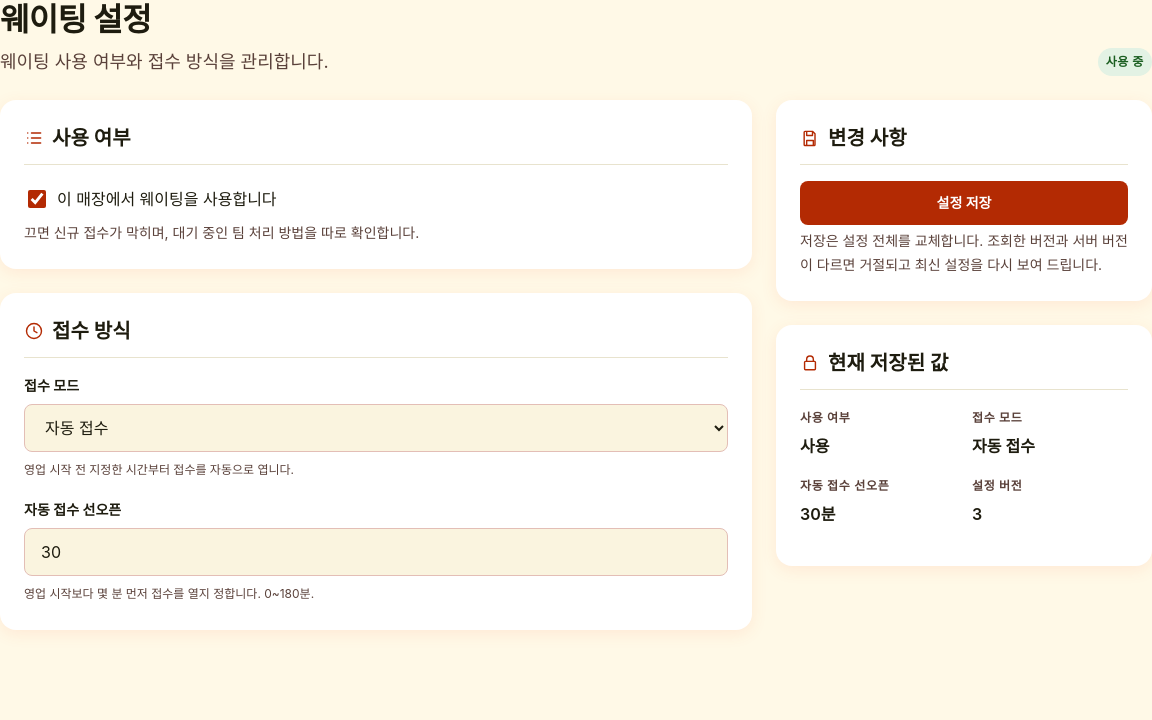
웨이팅 설정 화면 › 202 종결 작업 응답은 진행 상태로 안내한다
Click the checkbox labelled "이 매장에서 웨이팅을 사용합니다": {"x": 37, "y": 199} [28,190,46,208]
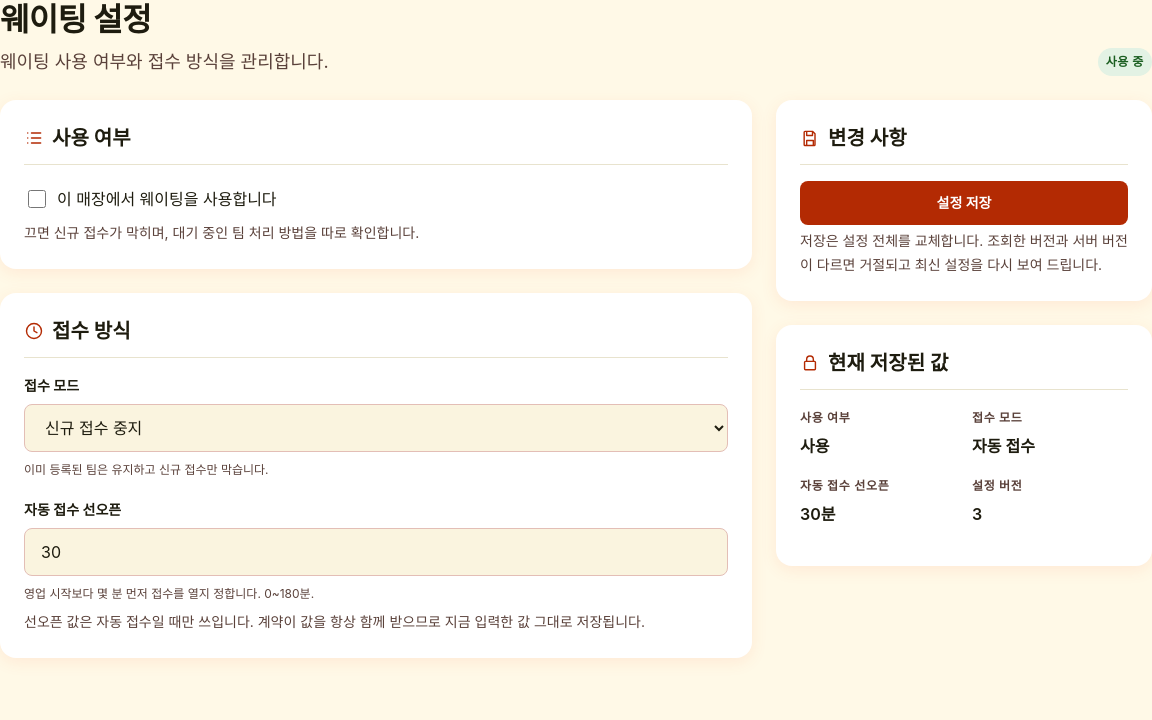
Click the button "설정 저장": {"x": 964, "y": 203} [800,181,1128,225]
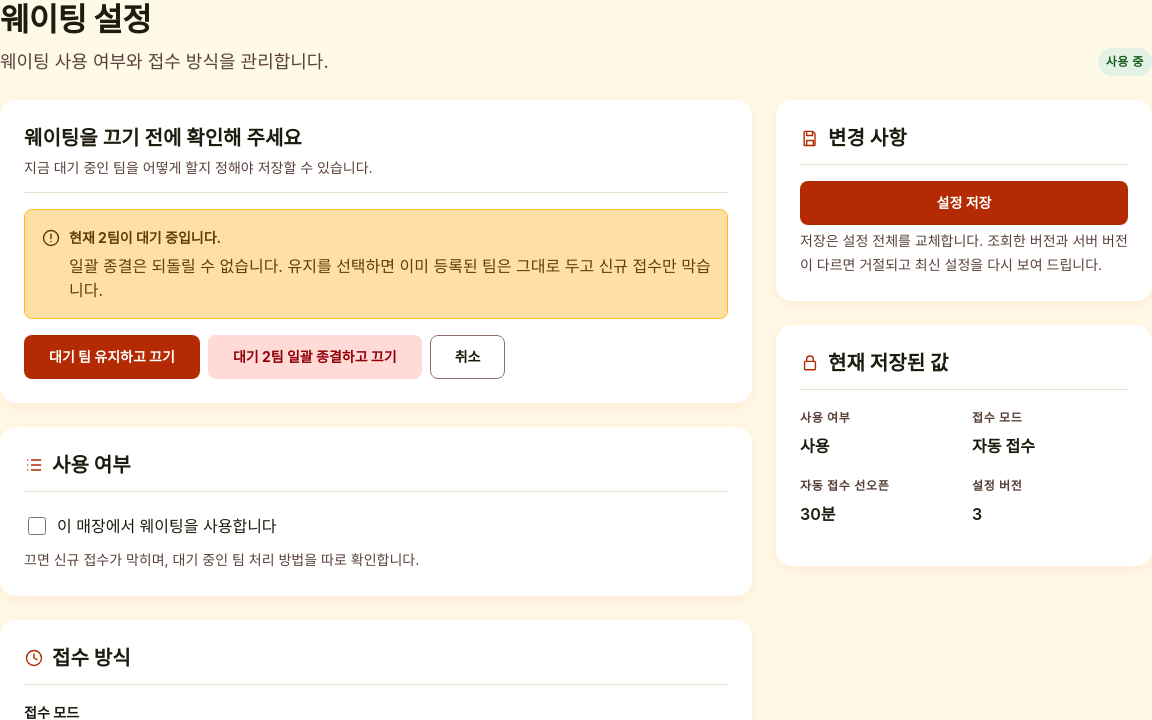
Click the button "대기 2팀 일괄 종결하고 끄기": {"x": 315, "y": 357} [208,335,422,379]
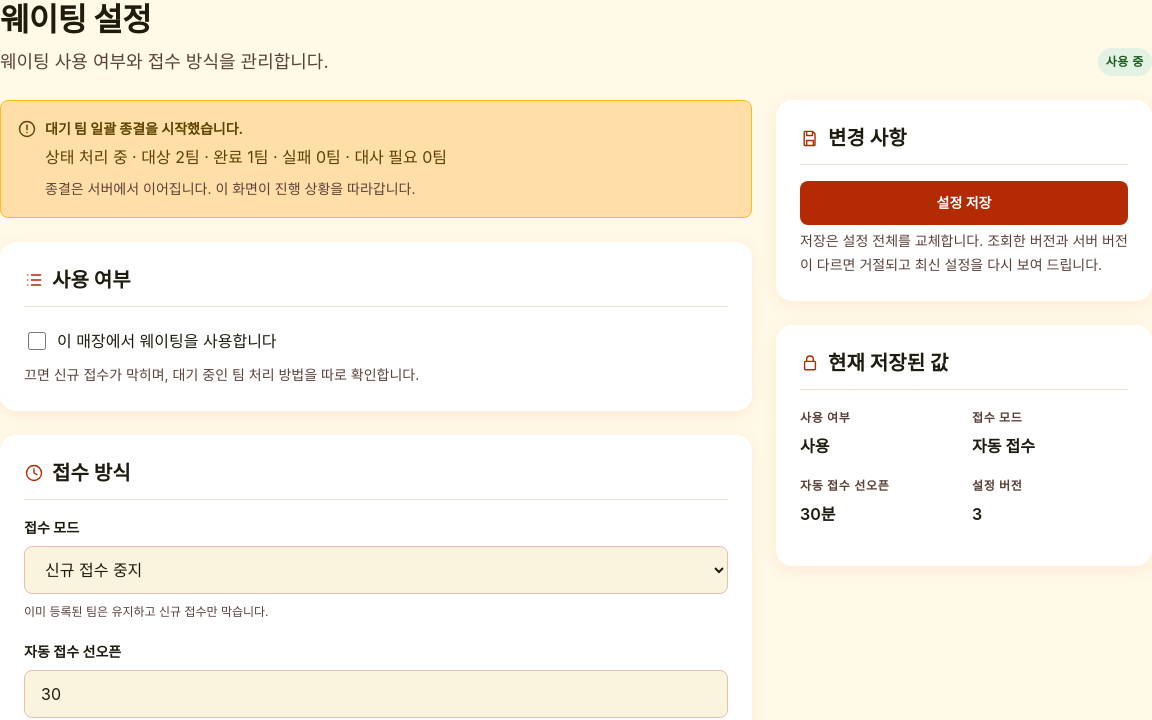
Result: the text "대기 팀 일괄 종결을 시작했습니다." is shown at [45,120,243,137]
Result: the text "상태 처리 중 · 대상 2팀 · 완료 1팀 · 실패 0팀 · 대사 필요 0팀" is shown at [45,147,447,167]
